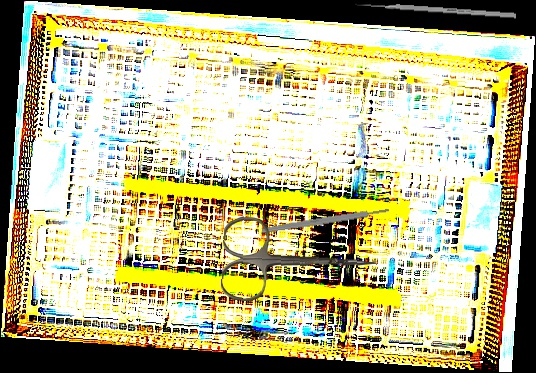Iris Scissors: (220, 215, 380, 308)
Pusher: (354, 1, 517, 19)
Scalpel Handle: (261, 206, 390, 235)
